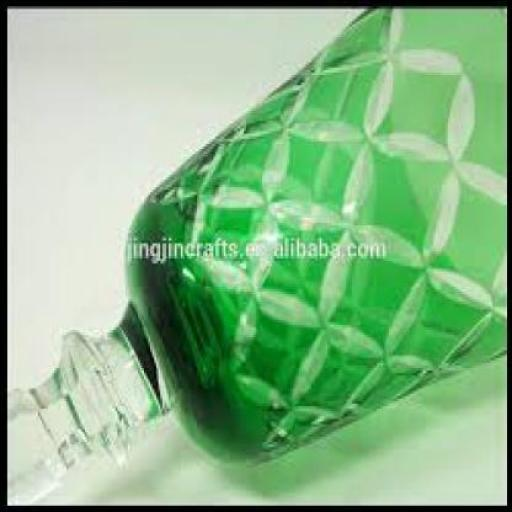glass: (4, 5, 502, 502)
